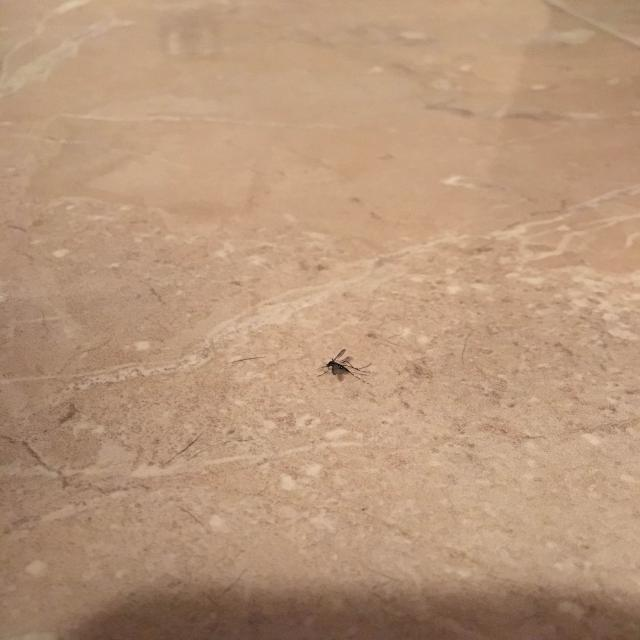albopictus: (309, 346, 376, 387)
